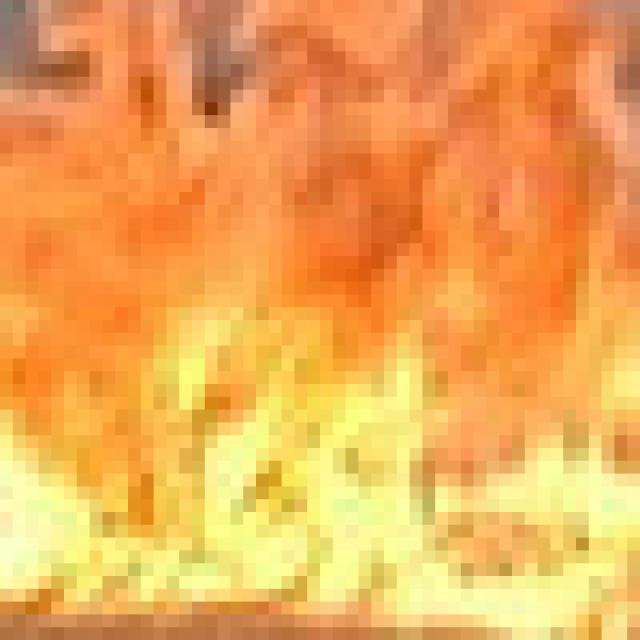fire: (1, 10, 632, 640)
